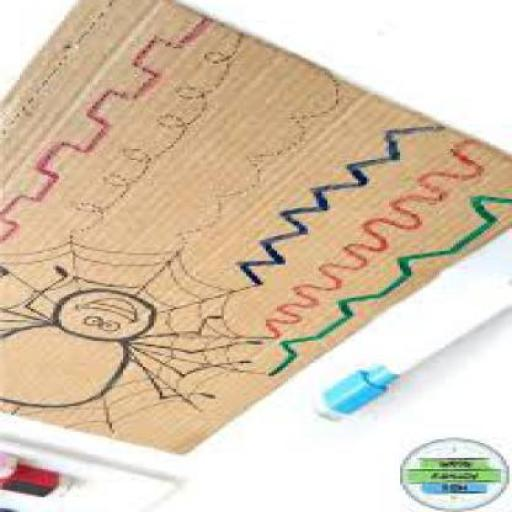cardboard: (2, 2, 511, 460)
